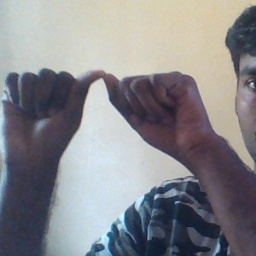A: (21, 60, 181, 158)
